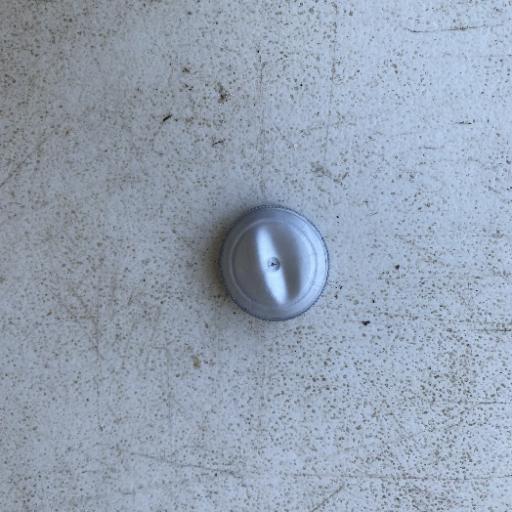Plastic: (215, 202, 330, 324)
